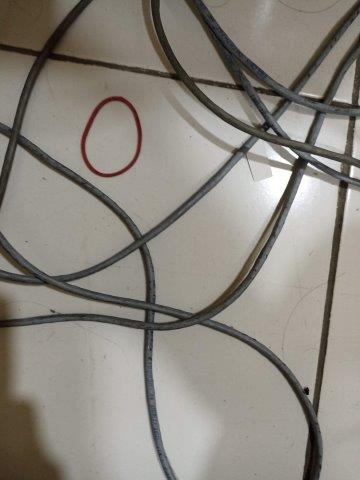karet: (80, 95, 142, 178)
